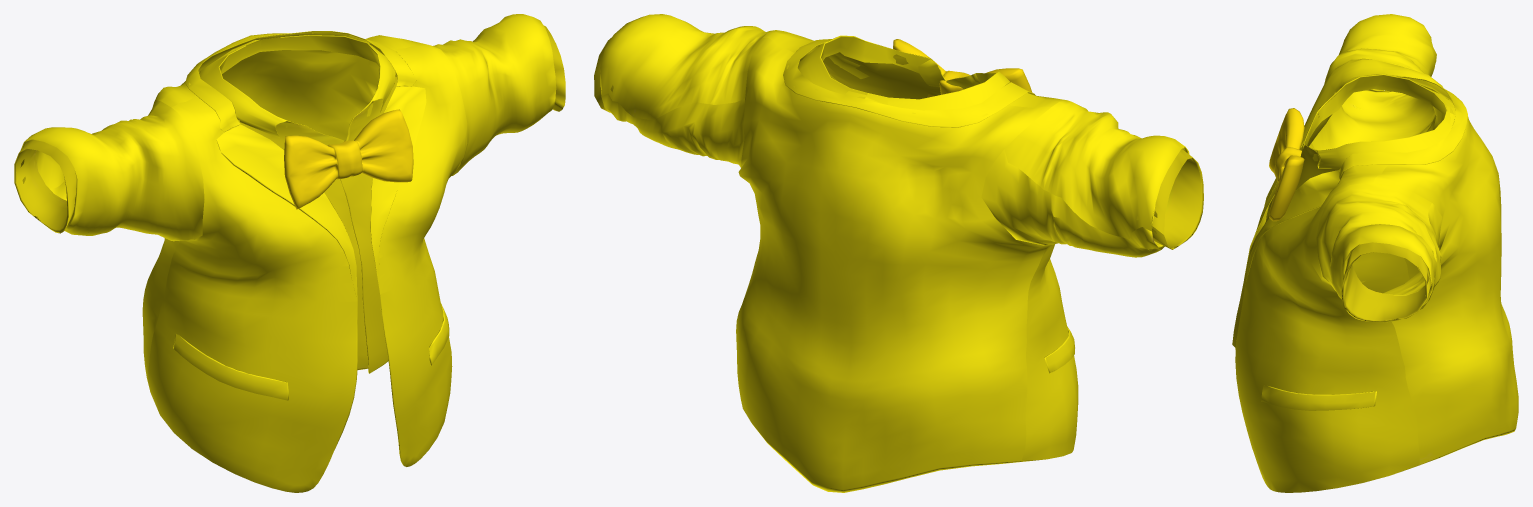
The model's file is Tux-Gold.glb.
The picture shows the model from 3 angles, left to right: view 1: azimuth 30°, elevation 25°; view 2: azimuth 150°, elevation 25°; view 3: azimuth 270°, elevation 25°; orthographic projection. The views are drawn at different scales.
Parts seen in each view (by area): view 1: Tux-Gold; view 2: Tux-Gold; view 3: Tux-Gold.
Part boxes in pixels (x1=…): Tux-Gold: x1=14, y1=14, x2=565, y2=492; Tux-Gold: x1=594, y1=14, x2=1203, y2=492; Tux-Gold: x1=1232, y1=14, x2=1518, y2=492.
Size of the model in its own units: 0.6714 by 0.4645 by 0.3407.
2 materials, 1 textured.
